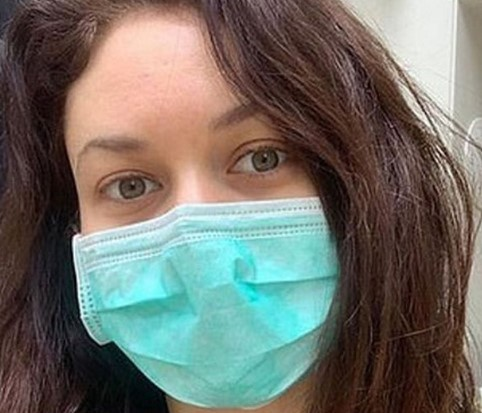face_with_mask: (58, 4, 355, 409)
